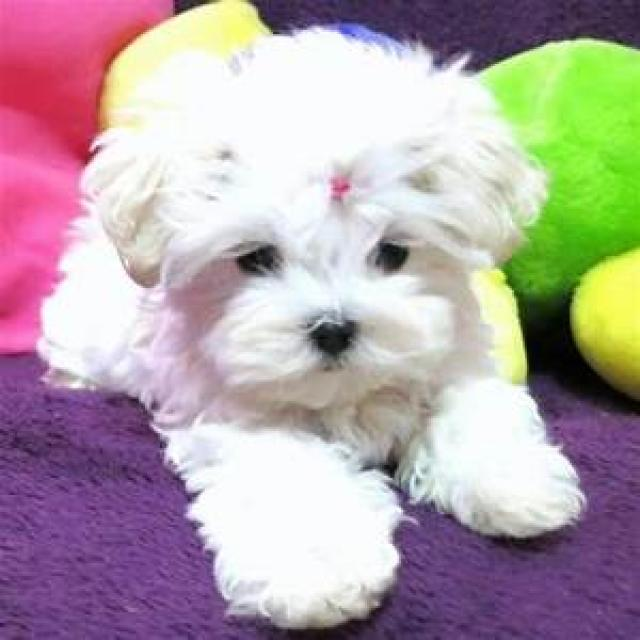dog: (36, 0, 585, 634)
